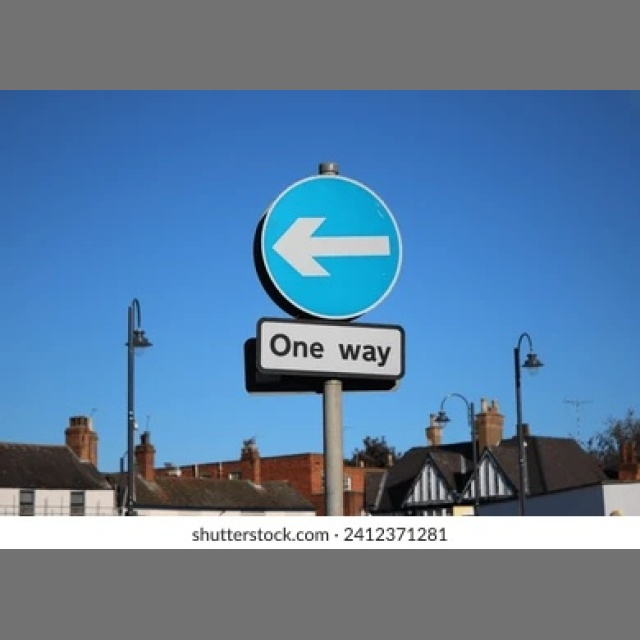Compulsory_Turn_Left: (251, 171, 404, 321)
